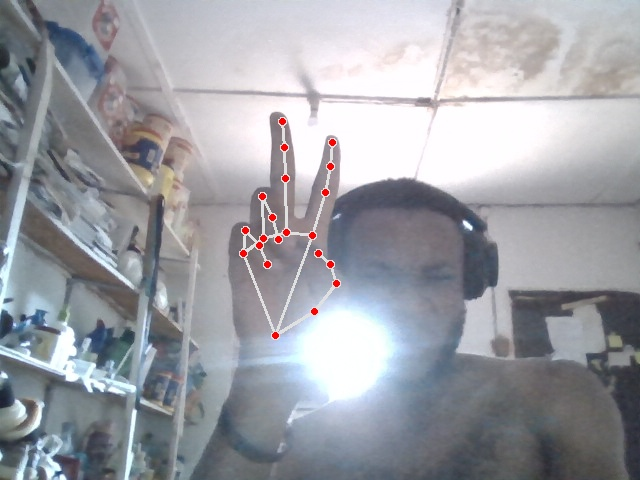peace: (228, 111, 349, 366)
